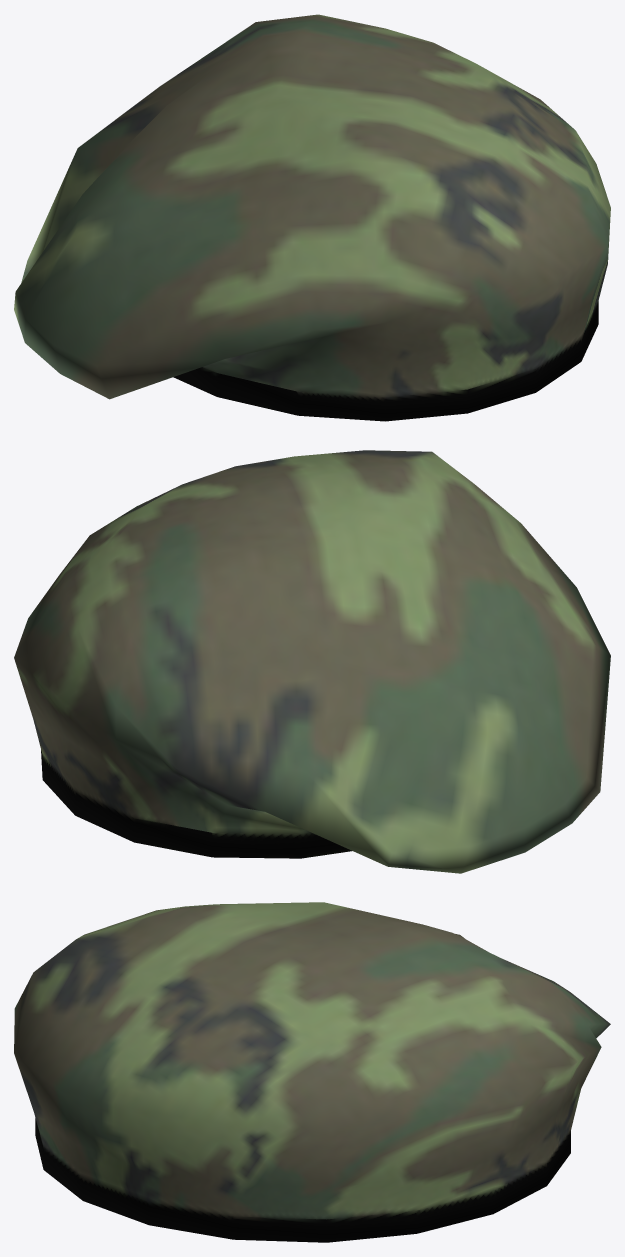
Rendered from M_BeretSMUI.fbx.
The picture shows the model from 3 angles, top to bottom: view 1: azimuth 30°, elevation 25°; view 2: azimuth 150°, elevation 25°; view 3: azimuth 270°, elevation 25°; orthographic projection. The views are drawn at different scales.
Visible parts, largest first — view 1: Circle; view 2: Circle; view 3: Circle.
Boxes of the visible parts, x1,y1,x2,y2 form: Circle: [14, 14, 610, 421]; Circle: [14, 450, 610, 873]; Circle: [14, 902, 610, 1242].
Bounding box in the file's own units: 0.0673 × 0.1521 × 0.1639.
